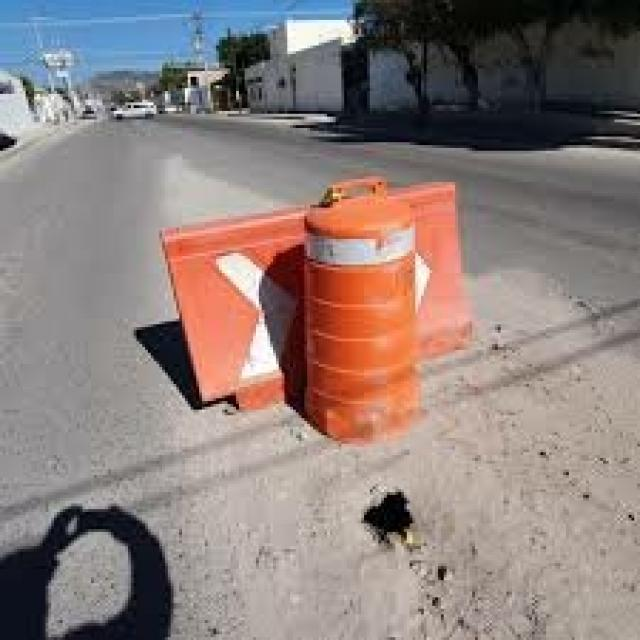Pothole: (273, 444, 504, 603)
